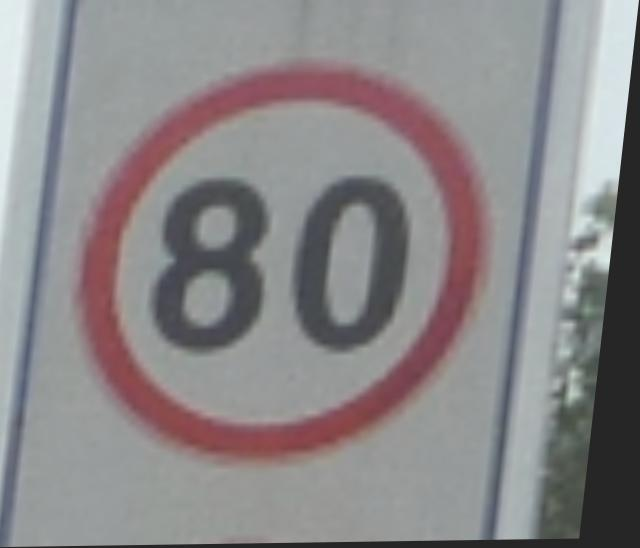limit80: (55, 47, 519, 473)
